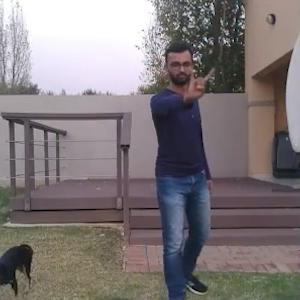takeoff-hand: (180, 58, 216, 98)
